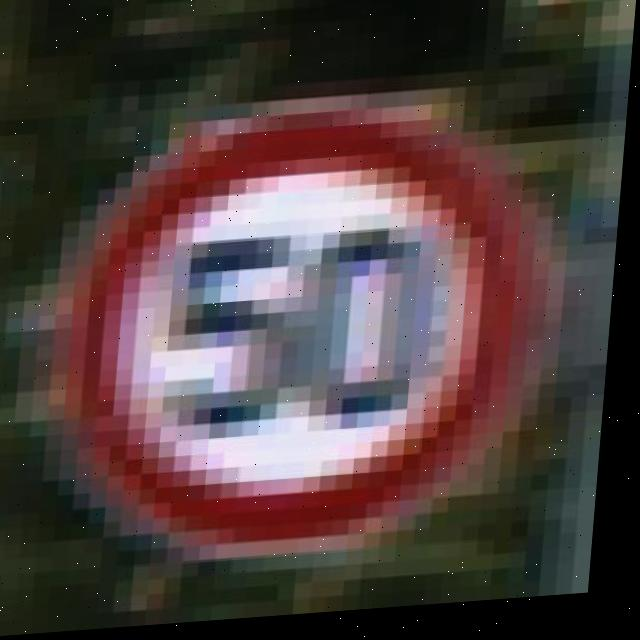Speed limit 50: (62, 94, 560, 578)
